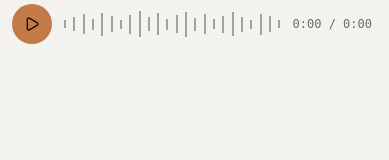
Test: VoiceMessageBubble › mostra erro de reprodução sem alterar a mensagem
Click the button named "Reproduzir áudio" at (32, 24), box [12, 4, 52, 44]
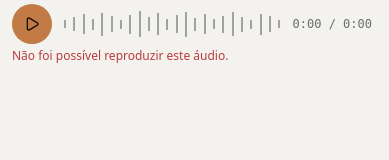
Expected: the text "Não foi possível reproduzir este áudio." is shown, [12, 47, 228, 64]
